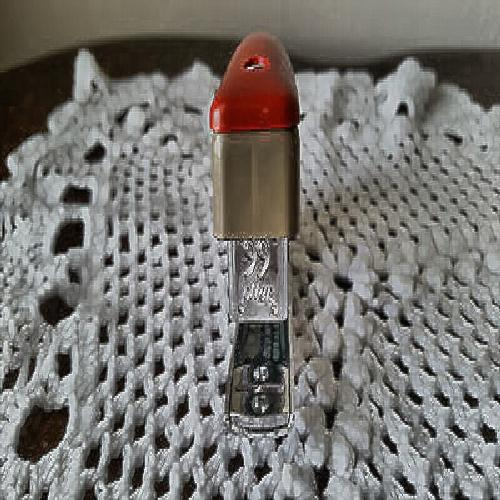stapler: (199, 43, 314, 454)
